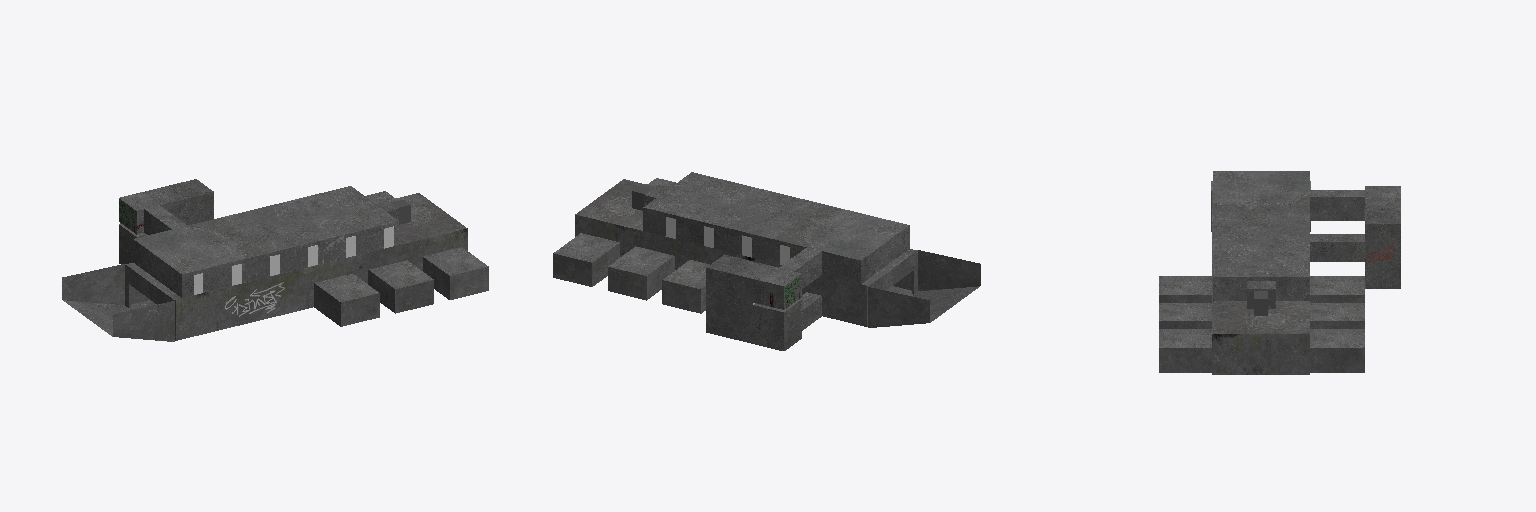
3 renders of one model, left to right at view 1: azimuth 30°, elevation 25°; view 2: azimuth 150°, elevation 25°; view 3: azimuth 270°, elevation 25°, orthographic.
Parts seen in each view (by area): view 1: Cube.003, Cube.001, Cube.005, Plane; view 2: Cube.003, Cube.001, Cube.005, Plane.001; view 3: Cube.003, Cube.001, Cube.005.
Part boxes in pixels (bbox=[...]): Cube.003: bbox=[62, 191, 488, 341]; Cube.001: bbox=[133, 186, 398, 297]; Cube.005: bbox=[119, 179, 213, 263]; Plane: bbox=[194, 226, 393, 294]; Cube.003: bbox=[553, 178, 980, 327]; Cube.001: bbox=[643, 172, 909, 283]; Cube.005: bbox=[706, 248, 821, 350]; Plane.001: bbox=[666, 217, 789, 264]; Cube.003: bbox=[1159, 181, 1364, 374]; Cube.001: bbox=[1213, 171, 1309, 308]; Cube.005: bbox=[1310, 186, 1400, 288].
Bounding box in the file's own units: 45.77 × 8 × 27.
Materials: 8 (3 with a texture image).